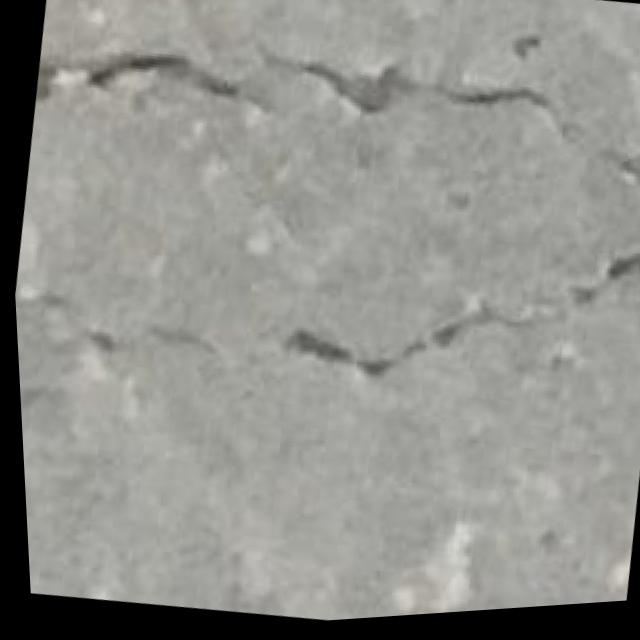Crack: (25, 0, 640, 238), (271, 190, 640, 438), (11, 269, 222, 404)
